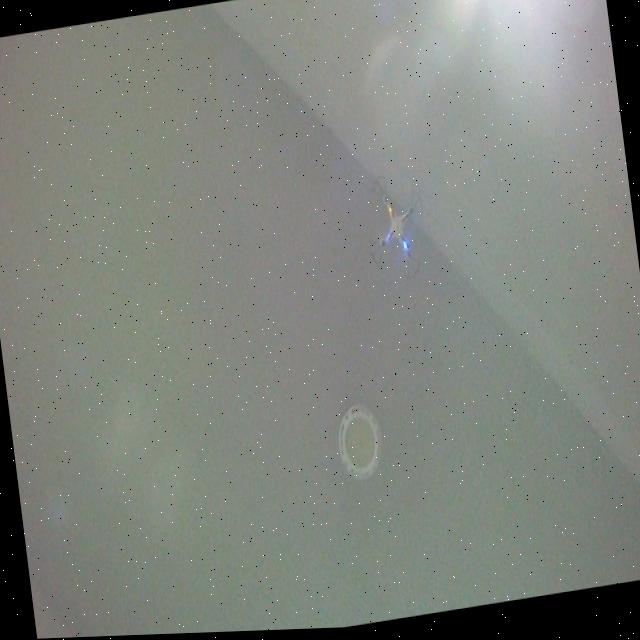drone: (358, 168, 435, 290)
